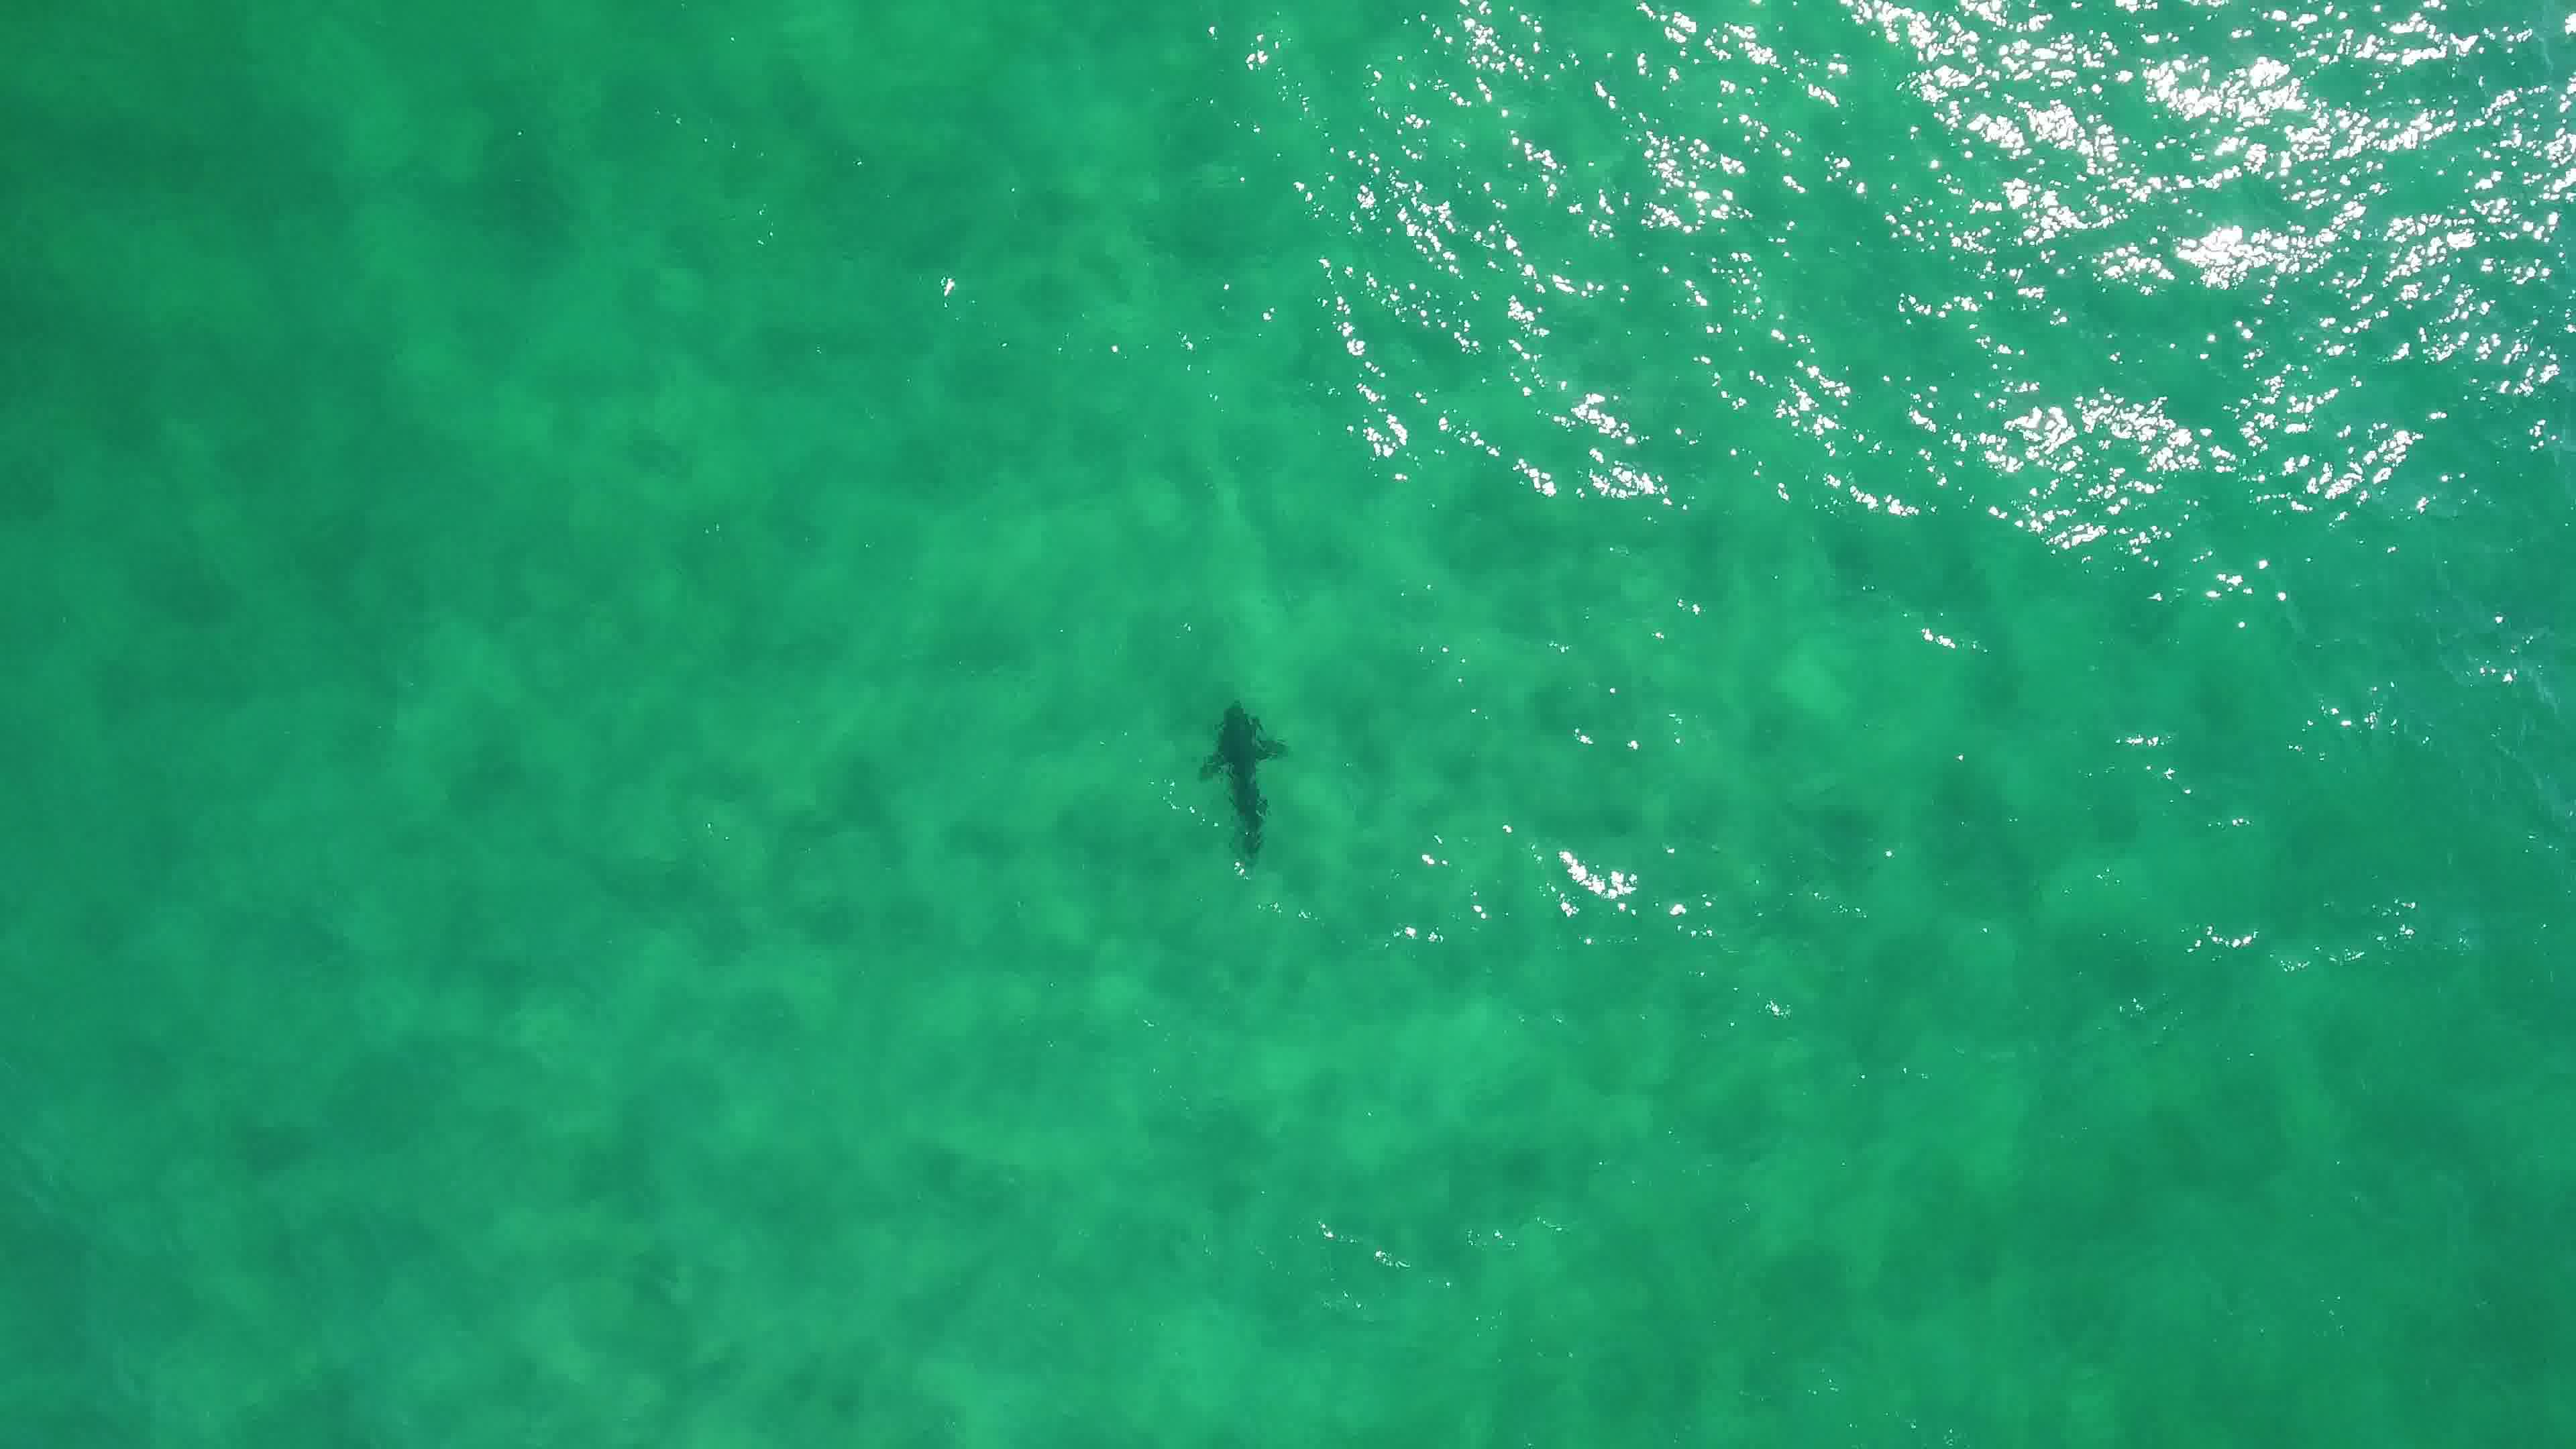shark: (1191, 686, 1295, 867)
